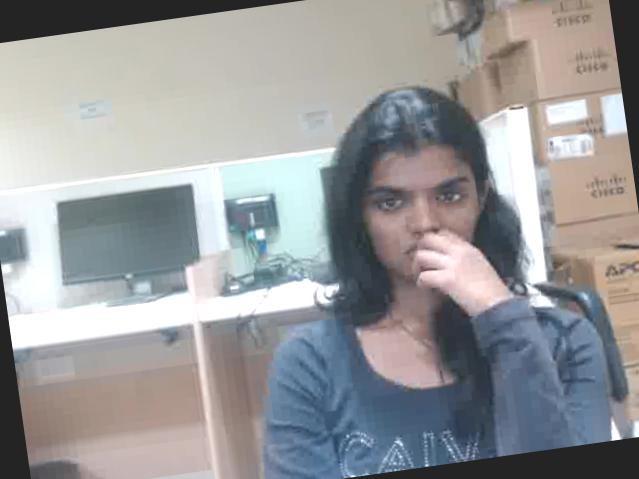bingung: (357, 135, 487, 295)
